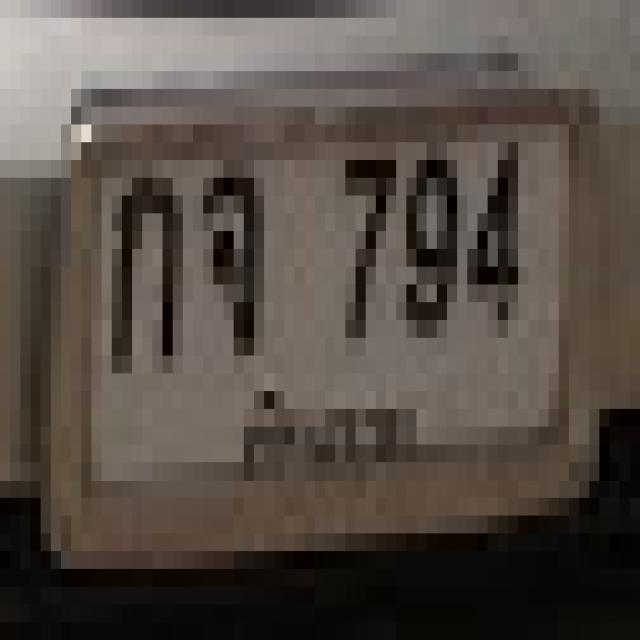license_plate: (38, 55, 615, 587)
